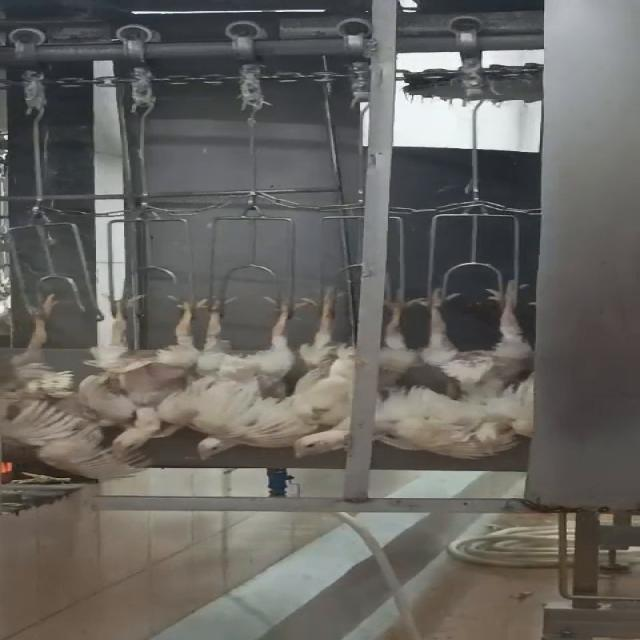chicken: (414, 267, 547, 463), (0, 287, 131, 478), (281, 280, 416, 458), (176, 294, 320, 460), (85, 286, 203, 459)
